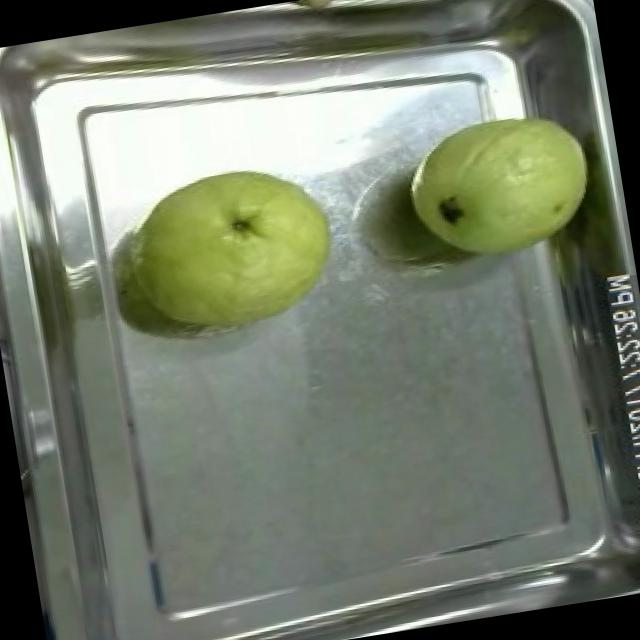Fruit: (115, 147, 352, 350), (390, 93, 612, 279)
